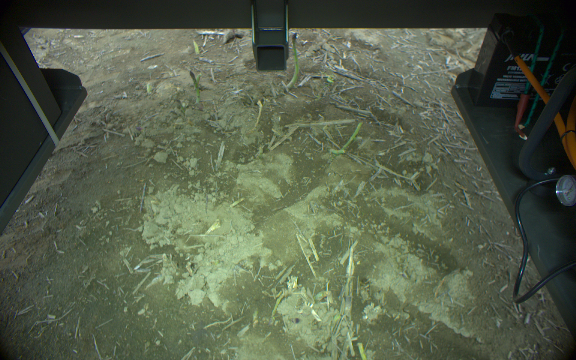aspa: (285, 31, 301, 89), (341, 120, 363, 151), (188, 70, 201, 103), (329, 147, 347, 158)
